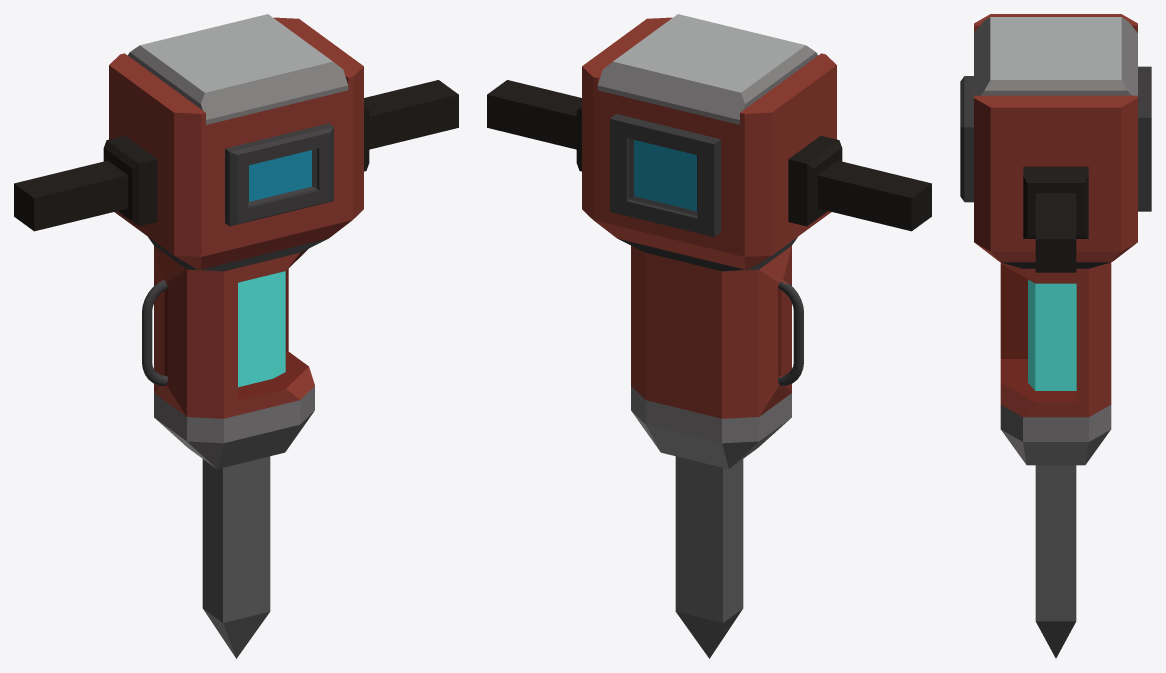
Rendered from RefineryDrill.fbx.
3 renders of one model, left to right at view 1: azimuth 30°, elevation 25°; view 2: azimuth 150°, elevation 25°; view 3: azimuth 270°, elevation 25°, orthographic.
Visible parts, largest first — view 1: RefineryDrill; view 2: RefineryDrill; view 3: RefineryDrill.
Part boxes in pixels (<box>): RefineryDrill: <box>14,14,458,658</box>; RefineryDrill: <box>487,14,931,658</box>; RefineryDrill: <box>960,14,1151,658</box>.
Bounding box in the file's own units: 181 × 247 × 70.
